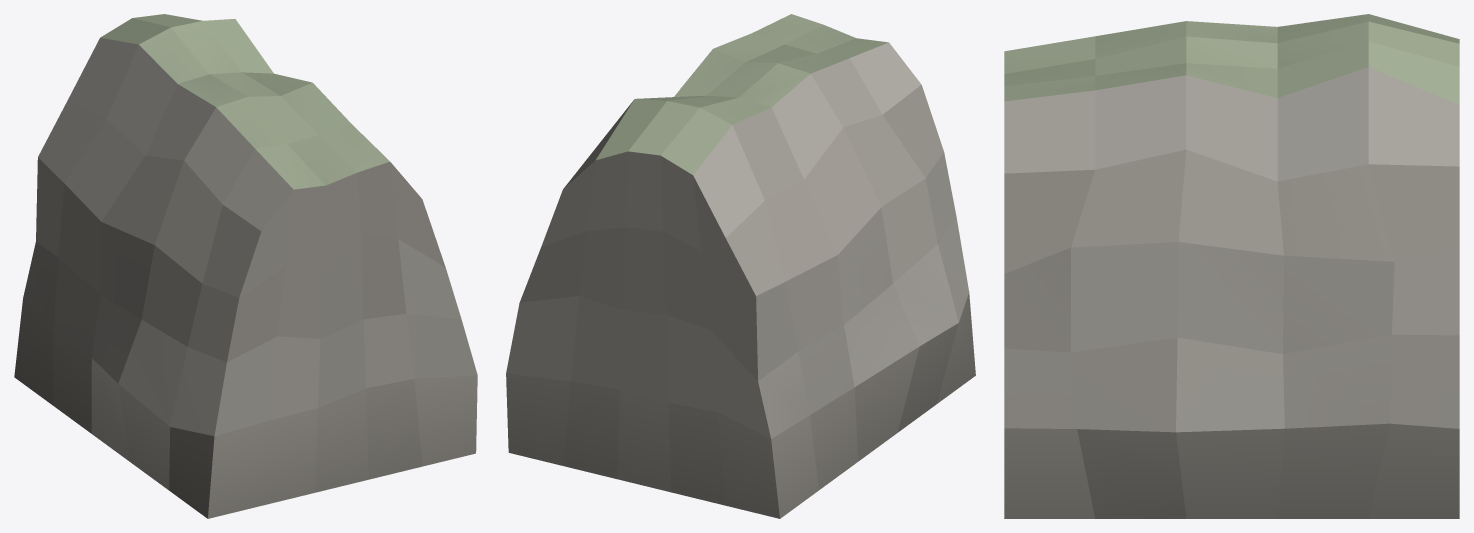
Rendered from roca_recta_2.glb.
The picture shows the model from 3 angles, left to right: view 1: azimuth 30°, elevation 25°; view 2: azimuth 150°, elevation 25°; view 3: azimuth 270°, elevation 25°; orthographic projection. The views are drawn at different scales.
Parts seen in each view (by area): view 1: propforge-cuartos-roca_recta; view 2: propforge-cuartos-roca_recta; view 3: propforge-cuartos-roca_recta.
Part boxes in pixels (x1,y1,x2,y2): propforge-cuartos-roca_recta: [14, 14, 477, 518]; propforge-cuartos-roca_recta: [506, 14, 975, 518]; propforge-cuartos-roca_recta: [1004, 14, 1459, 518].
Size of the model in its own units: 0.8936 by 0.9957 by 1.
